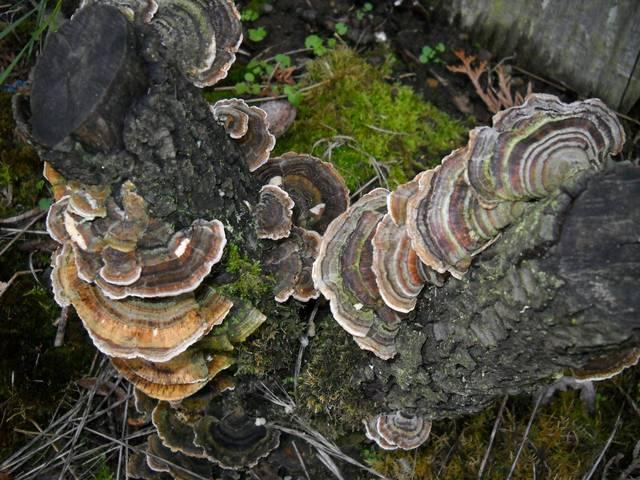Non-edible Mushroom: (310, 90, 627, 361), (42, 164, 261, 402)
